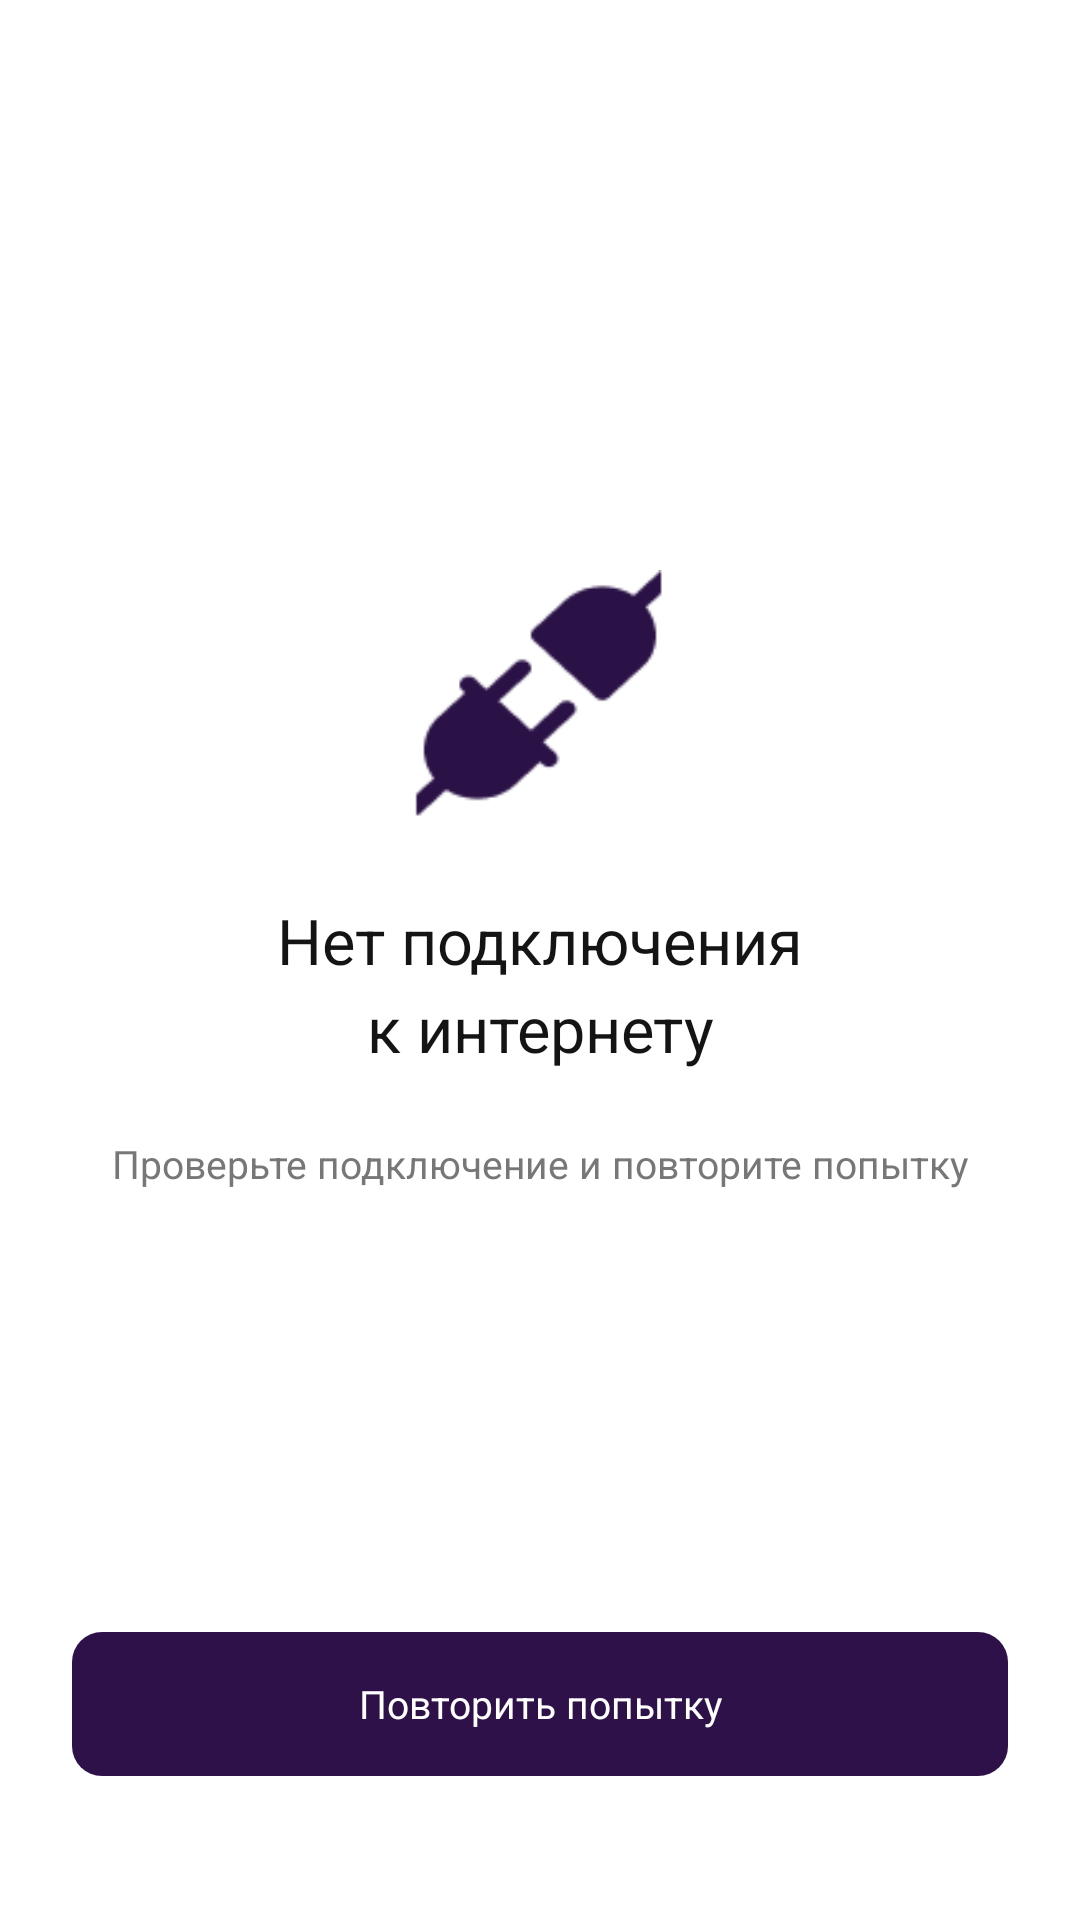

Locate icon controls on the screen. Image size 1080 x 1920, boxes as box=[x1, y1, x2, y2].
Значок отключённого соединения: box=[415, 570, 662, 816]
